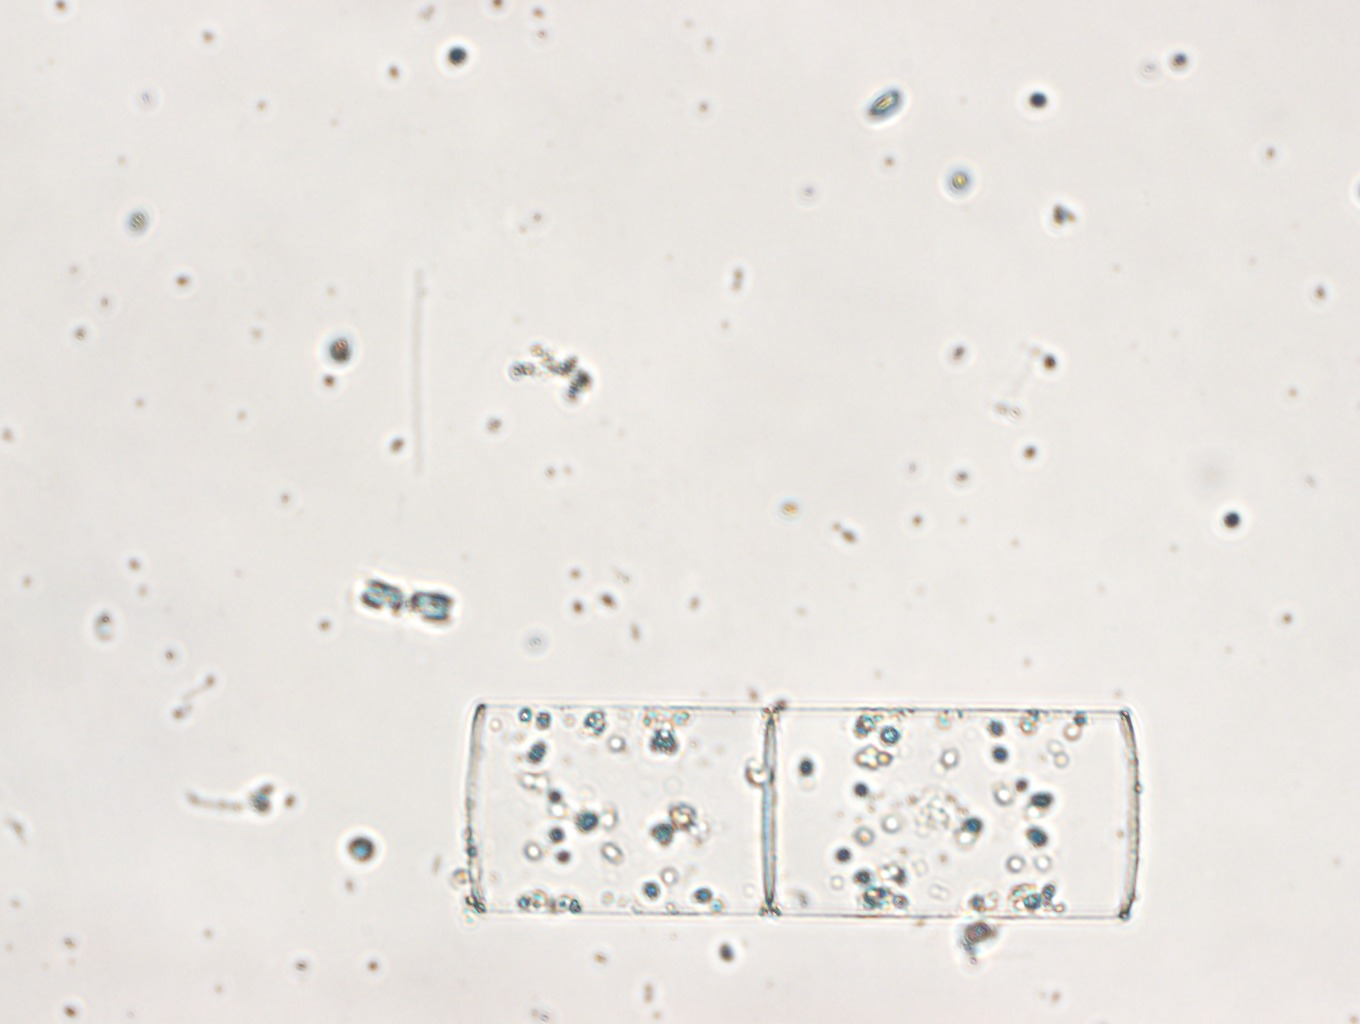guinardia flaccida: (464, 700, 1142, 926)
